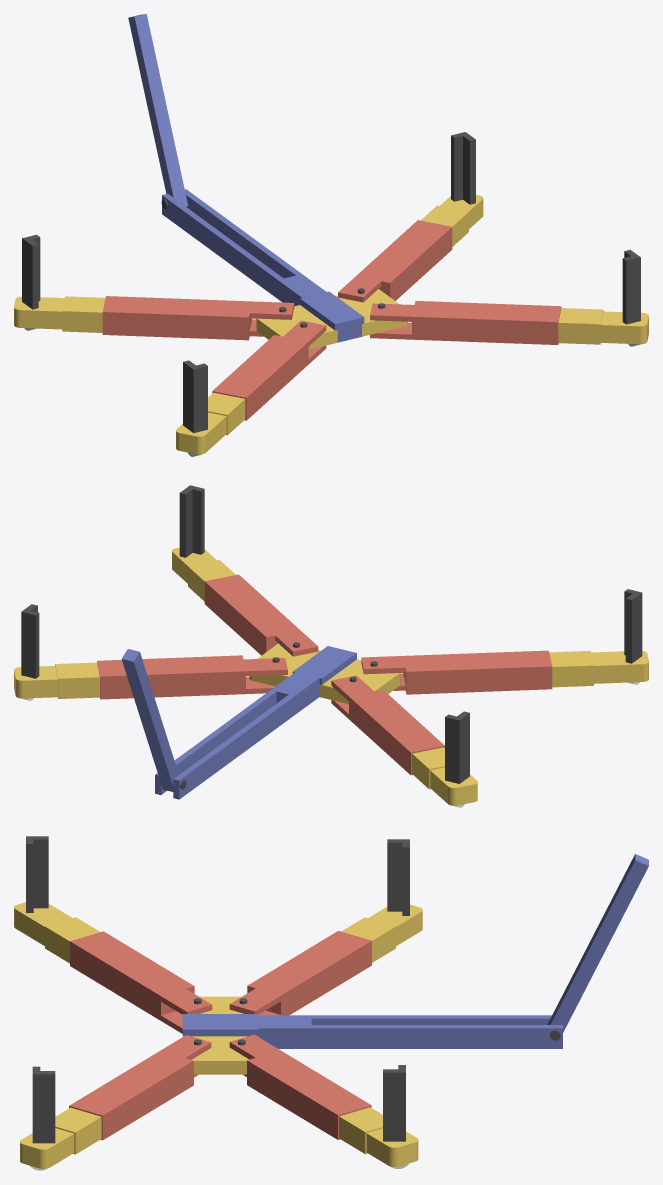
Rendered from Robot.fbx.
The picture shows the model from 3 angles, top to bottom: view 1: azimuth 30°, elevation 25°; view 2: azimuth 150°, elevation 25°; view 3: azimuth 270°, elevation 25°; orthographic projection. The views are drawn at different scales.
Visible parts, largest first — view 1: Body61, Body46, Body42, Body44, Body48, Body65, Body4, Body45, Body49, Body54, Body50, Body51 (+6 smaller); view 2: Body61, Body44, Body48, Body42, Body46, Body65, Body4, Body47, Body43, Body53, Body56, Body52 (+7 smaller); view 3: Body61, Body44, Body42, Body46, Body48, Body65, Body4, Body47, Body43, Body45, Body49, Body55 (+7 smaller).
Part boxes in pixels (x1,y1,x2,y2): Body61: (162, 189, 364, 342); Body46: (370, 301, 561, 344); Body42: (102, 296, 294, 340); Body44: (212, 320, 326, 420); Body48: (338, 220, 452, 302); Body65: (128, 14, 188, 206); Body4: (256, 289, 407, 349); Body45: (183, 360, 207, 433); Body49: (451, 132, 475, 204); Body54: (558, 308, 603, 344); Body50: (62, 296, 105, 332); Body51: (14, 296, 64, 329); Body61: (155, 646, 356, 799); Body44: (361, 650, 552, 694); Body48: (97, 655, 287, 699); Body42: (331, 675, 444, 775); Body46: (204, 574, 318, 656); Body65: (121, 649, 178, 791); Body4: (249, 643, 400, 704); Body47: (179, 485, 204, 557); Body43: (445, 711, 469, 783); Body53: (591, 651, 648, 683); Body56: (55, 662, 99, 698); Body52: (549, 651, 593, 687); Body61: (182, 1014, 562, 1048); Body44: (70, 931, 212, 1033); Body42: (229, 931, 371, 1015); Body46: (69, 1035, 211, 1140); Body48: (229, 1034, 371, 1139); Body65: (547, 854, 648, 1032); Body4: (182, 996, 258, 1074); Body47: (32, 1066, 55, 1143); Body43: (387, 839, 409, 915); Body45: (26, 836, 48, 912); Body49: (383, 1065, 405, 1141); Body55: (20, 1128, 74, 1168).
Size of the model in its own units: 38.94 by 14.25 by 41.74.
